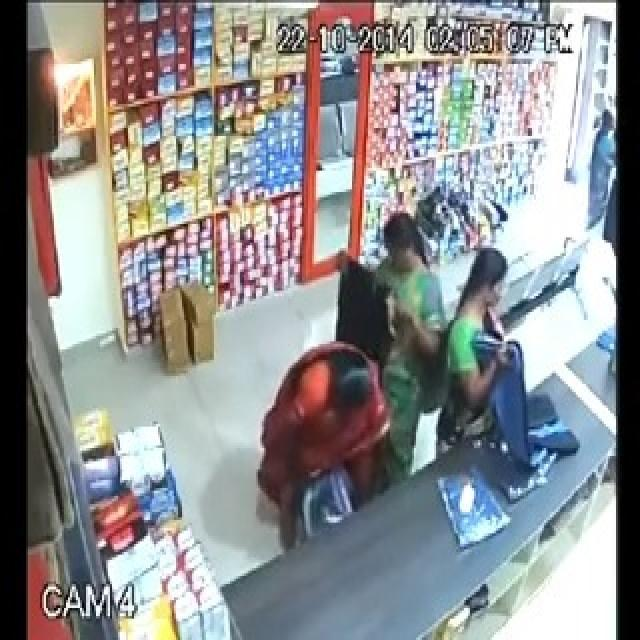Shoplifting: (263, 345, 402, 540)
